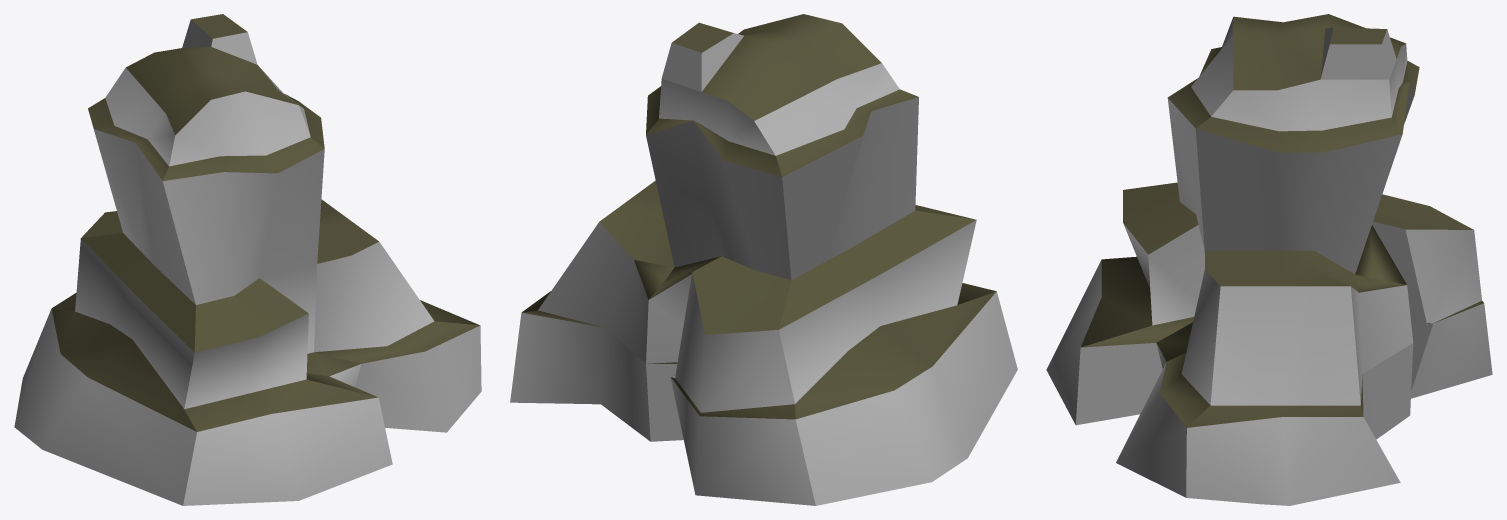
The model's file is Aqua_RockA.fbx.
3 views of the same model, side by side, from view 1: azimuth 30°, elevation 25°; view 2: azimuth 150°, elevation 25°; view 3: azimuth 270°, elevation 25° (orthographic). The views are drawn at different scales.
Parts seen in each view (by area): view 1: Aqua_RockA; view 2: Aqua_RockA; view 3: Aqua_RockA.
Boxes of the visible parts, x1,y1,x2,y2 form: Aqua_RockA: (14,14,481,505); Aqua_RockA: (510,14,1017,505); Aqua_RockA: (1046,14,1492,505).
Bounding box in the file's own units: 3.27 × 2.7 × 2.96.
